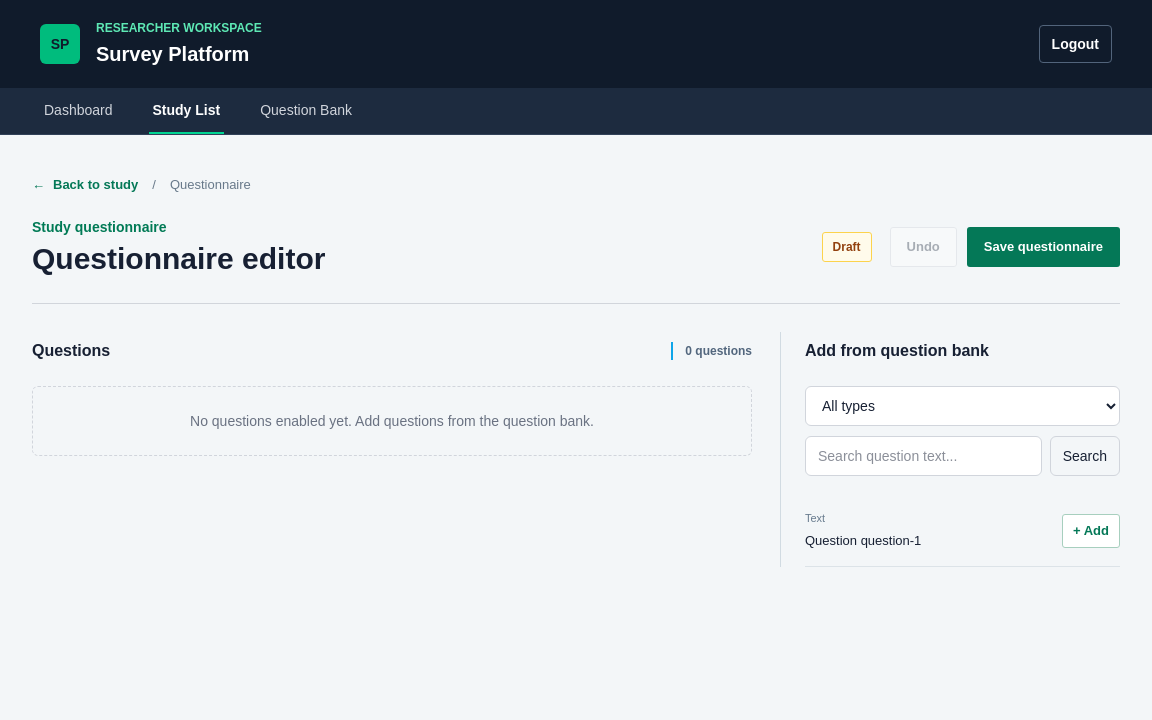
Test: M4 questionnaire editor browser behavior › reports an add failure without corrupting or dirtying the editor
Expected: the text "Question question-1" is shown, 805,533 -> 921,548
Click the button "+ Add" at x=1091, y=531, box 1062,514 -> 1120,548
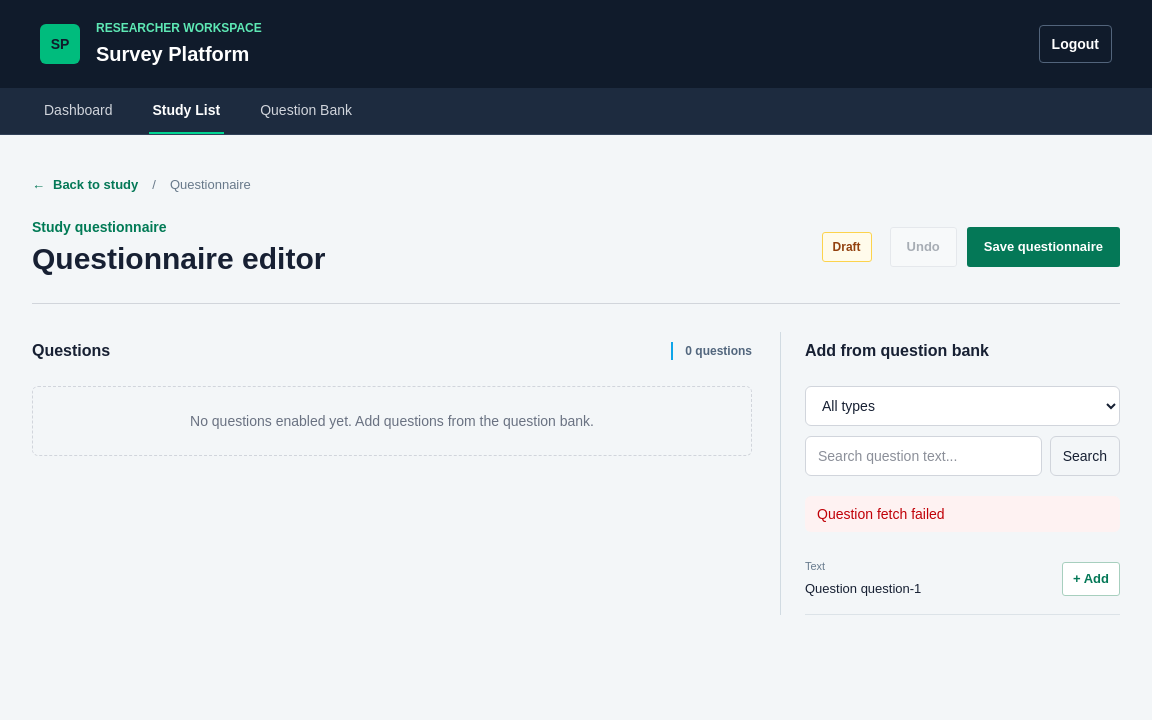
Expected: the text "Question question-1" is shown, 805,581 -> 921,596
Result: the message reads "Question fetch failed" at 817,506 -> 945,522
